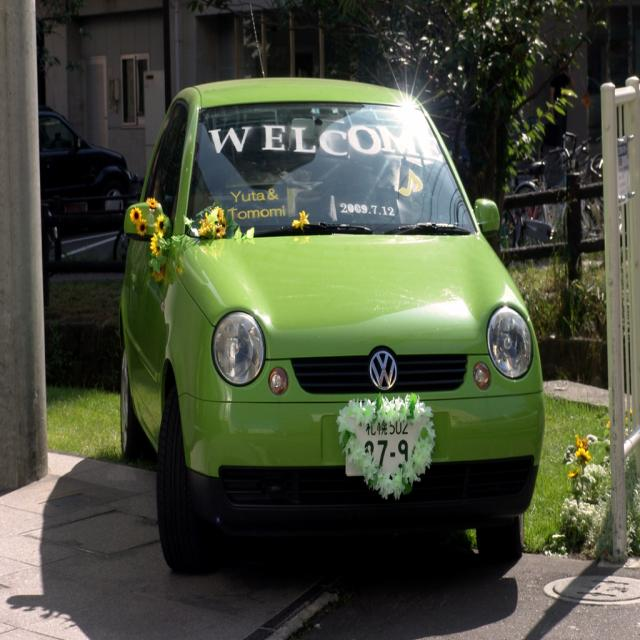car: (118, 66, 538, 594)
